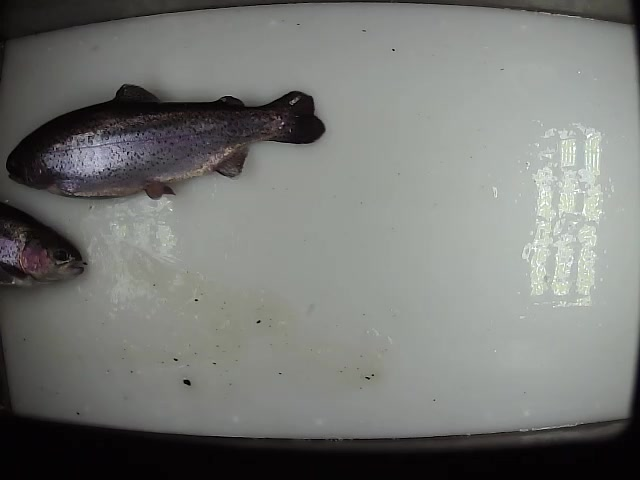fish: (3, 82, 326, 203), (1, 203, 85, 286)
